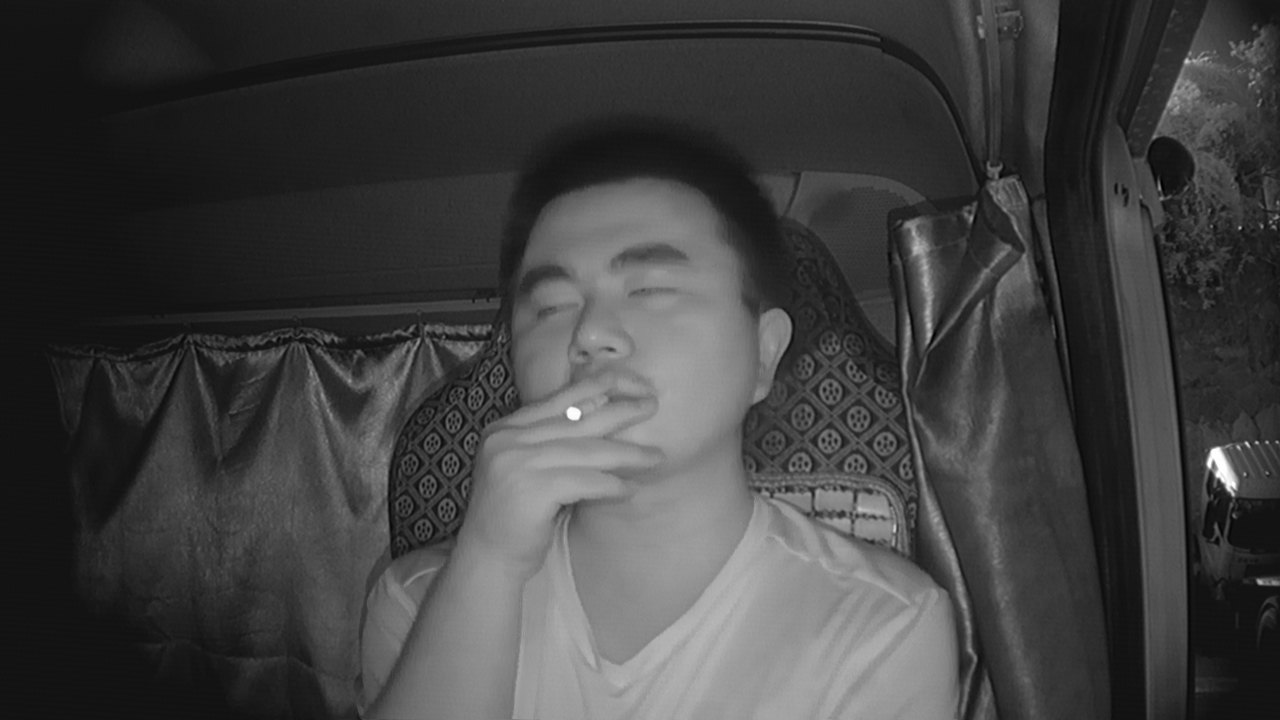hand: (505, 368, 648, 515)
